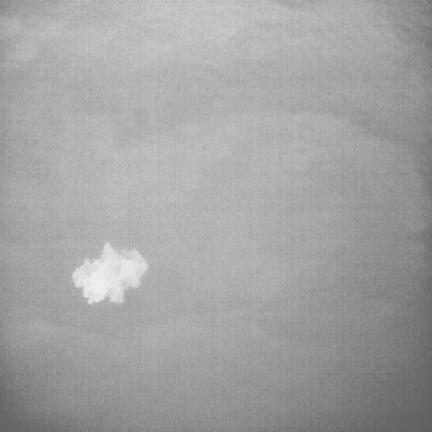flukeprints: (72, 243, 147, 304)
